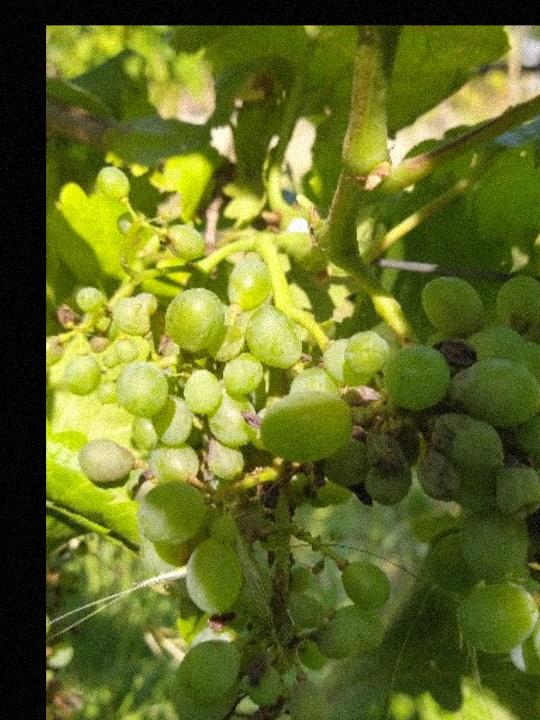grape: (32, 164, 540, 720)
